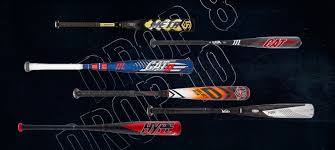baseball bat: (16, 121, 183, 138), (73, 85, 250, 101), (24, 58, 195, 74), (146, 104, 314, 119), (150, 35, 304, 49), (52, 18, 195, 32)
